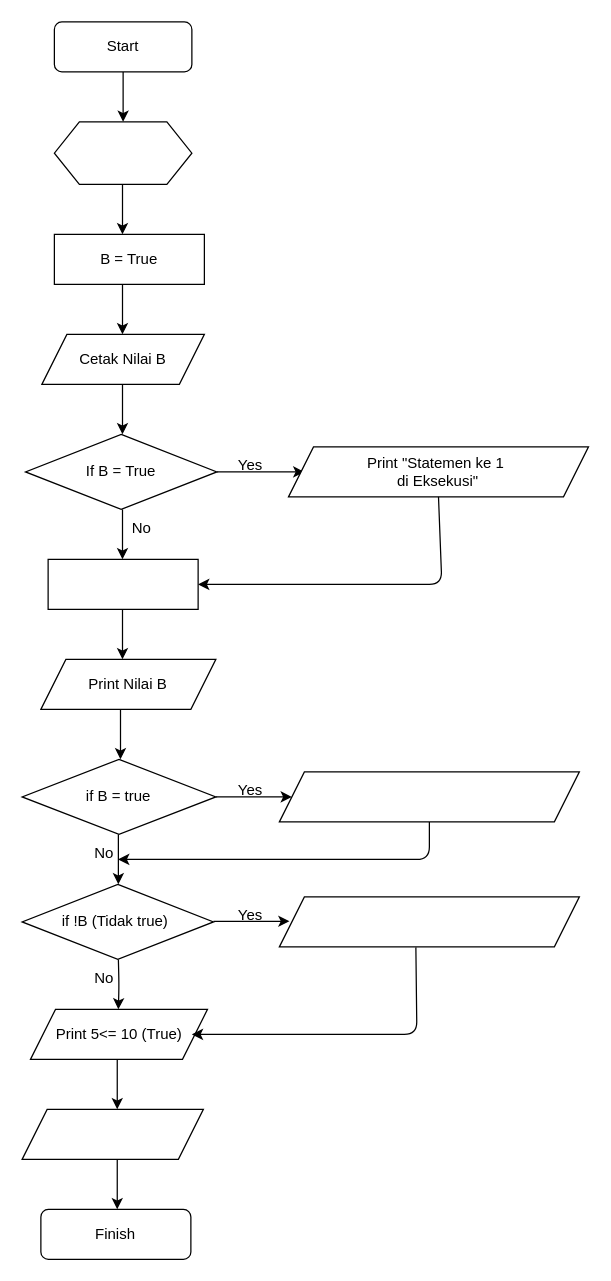
Some shapes in this 611 by 1281 pixel diagram are drawn without their labels. The box of each missing label's shape, as (x1, y1, x2, y2) in pixels:
B = False: (47, 558, 198, 609)
Boolean B: (53, 121, 192, 184)
Print "Statemen ke 2 tidak akan di Eksekusi": (278, 771, 579, 822)
Print "Statemen ke 3 Dieksekusi": (278, 896, 579, 947)
Print 4 > 6 (False): (21, 1108, 203, 1159)
